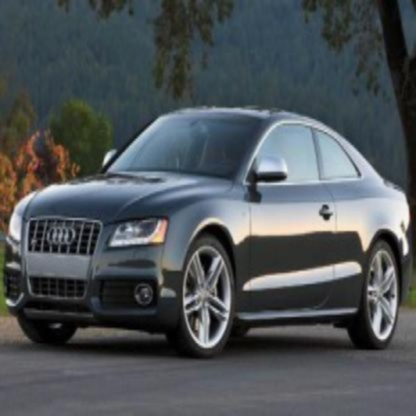Vehicle: (8, 104, 412, 366)
